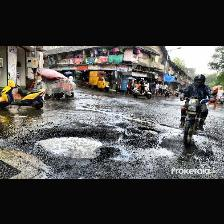pothole: (34, 126, 106, 158), (140, 126, 160, 134)
